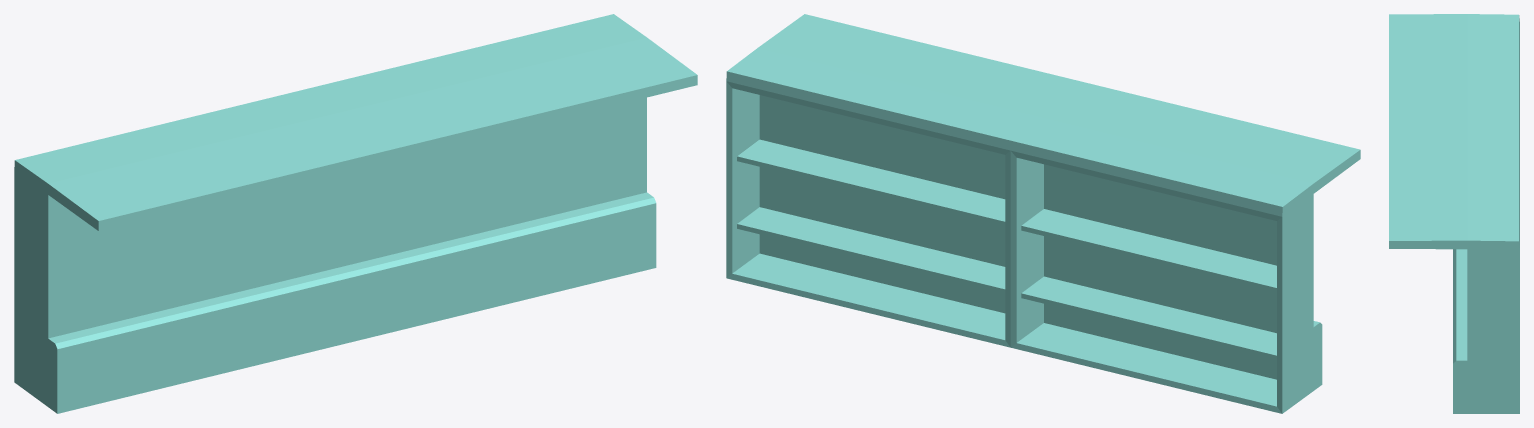
Rendered from DinerBarMiddle_Collision.fbx.
3 views of the same model, side by side, from view 1: azimuth 30°, elevation 25°; view 2: azimuth 150°, elevation 25°; view 3: azimuth 270°, elevation 25° (orthographic). The views are drawn at different scales.
Parts seen in each view (by area): view 1: DinerBarMiddle_Collision; view 2: DinerBarMiddle_Collision; view 3: DinerBarMiddle_Collision.
Part boxes in pixels (x1,y1,x2,y2): DinerBarMiddle_Collision: (14,14,697,413); DinerBarMiddle_Collision: (726,14,1360,413); DinerBarMiddle_Collision: (1389,14,1519,413).
Bounding box in the file's own units: 2.75 × 0.9815 × 0.6714.
